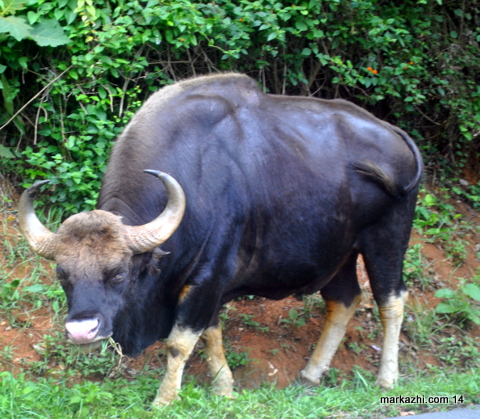bison: (12, 73, 423, 400)
